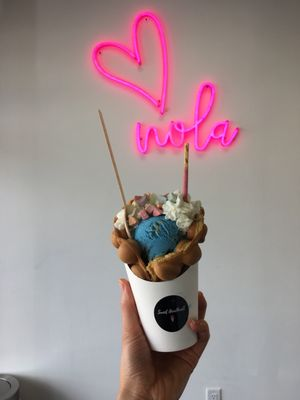pizza: (124, 259, 200, 354)
